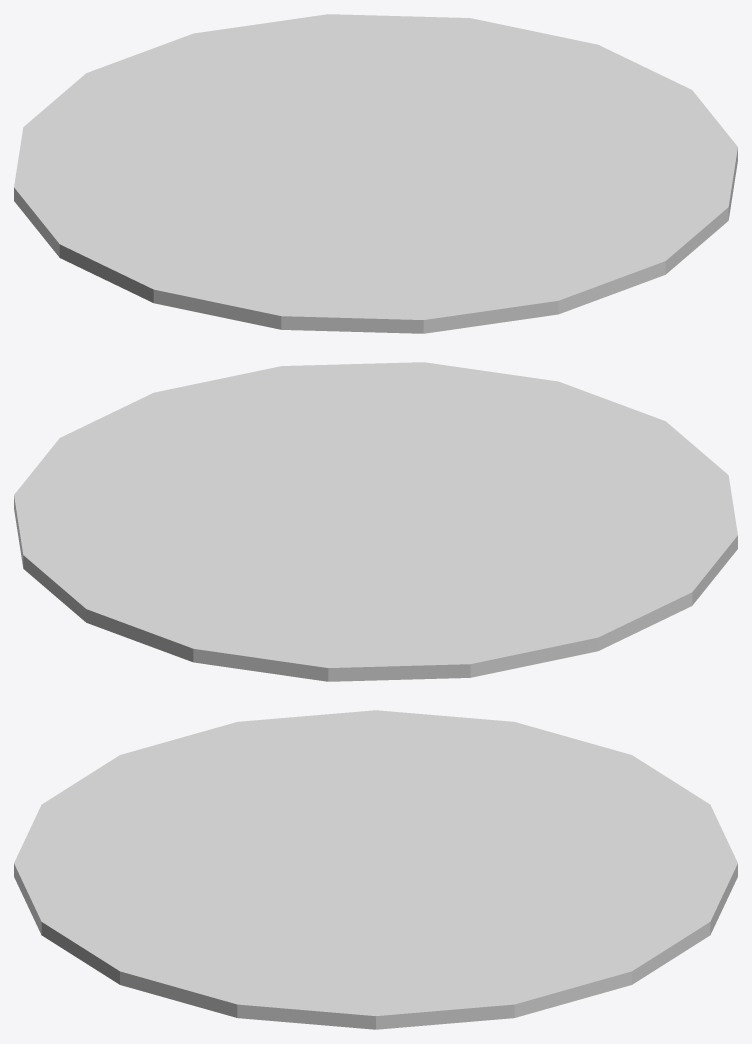
The model's file is prato.fbx.
3 renders of one model, top to bottom at view 1: azimuth 30°, elevation 25°; view 2: azimuth 150°, elevation 25°; view 3: azimuth 270°, elevation 25°, orthographic.
Visible parts, largest first — view 1: Cylinder_008; view 2: Cylinder_008; view 3: Cylinder_008.
Part boxes in pixels (x1,y1,x2,y2): Cylinder_008: [14, 14, 737, 333]; Cylinder_008: [14, 362, 737, 681]; Cylinder_008: [14, 710, 737, 1029].
Size of the model in its own units: 8.96 by 0.1853 by 8.96.
